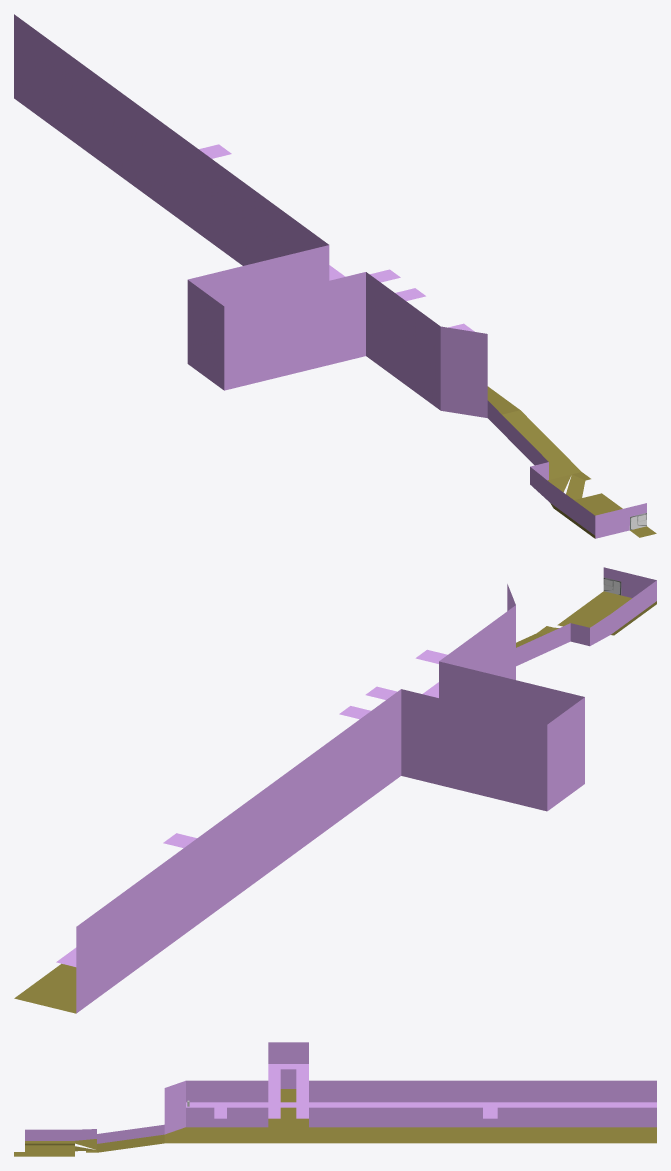
Rendered from mallExport.glb.
3 renders of one model, top to bottom at view 1: azimuth 30°, elevation 25°; view 2: azimuth 150°, elevation 25°; view 3: azimuth 270°, elevation 25°, orthographic. The views are drawn at different scales.
Parts seen in each view (by area): view 1: Floorplan; view 2: Floorplan; view 3: Floorplan.
Boxes of the visible parts, x1,y1,x2,y2 form: Floorplan: [14, 14, 656, 538]; Floorplan: [14, 567, 656, 1013]; Floorplan: [14, 1042, 656, 1156].
Bounding box in the file's own units: 40.03 × 20.41 × 200.
3 materials, 1 textured.
